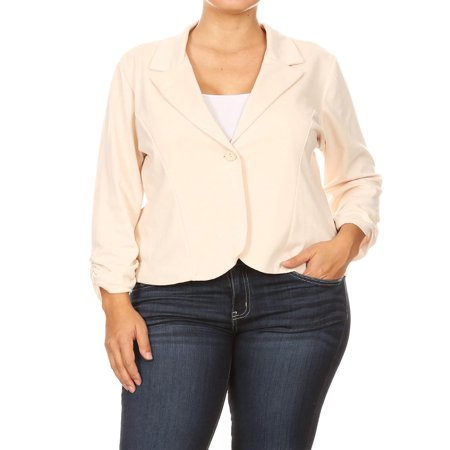F_W_suit jacket: (85, 30, 378, 281)
